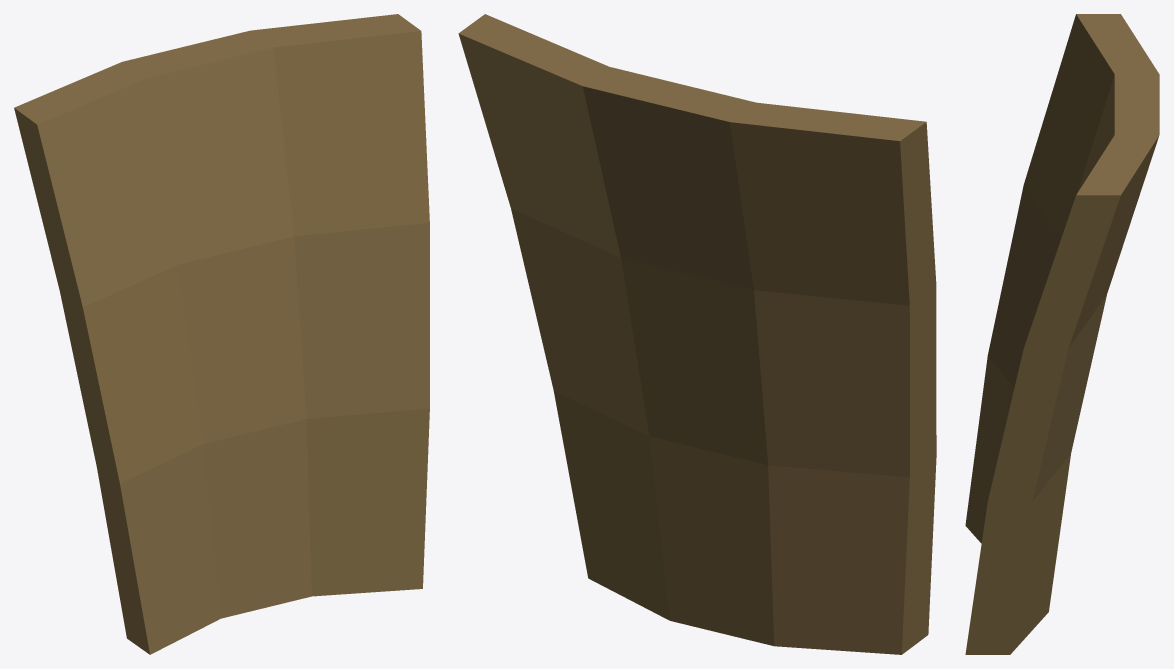
Rendered from Itr_Chair2_Back_01.FBX.
3 renders of one model, left to right at view 1: azimuth 30°, elevation 25°; view 2: azimuth 150°, elevation 25°; view 3: azimuth 270°, elevation 25°, orthographic. The views are drawn at different scales.
Visible parts, largest first — view 1: Itr_Chair2_Back_01; view 2: Itr_Chair2_Back_01; view 3: Itr_Chair2_Back_01.
Part boxes in pixels (<box>): Itr_Chair2_Back_01: <box>14,14,429,654</box>; Itr_Chair2_Back_01: <box>458,14,936,654</box>; Itr_Chair2_Back_01: <box>965,14,1159,654</box>.
Size of the model in its own units: 15.44 by 19.29 by 6.99.
